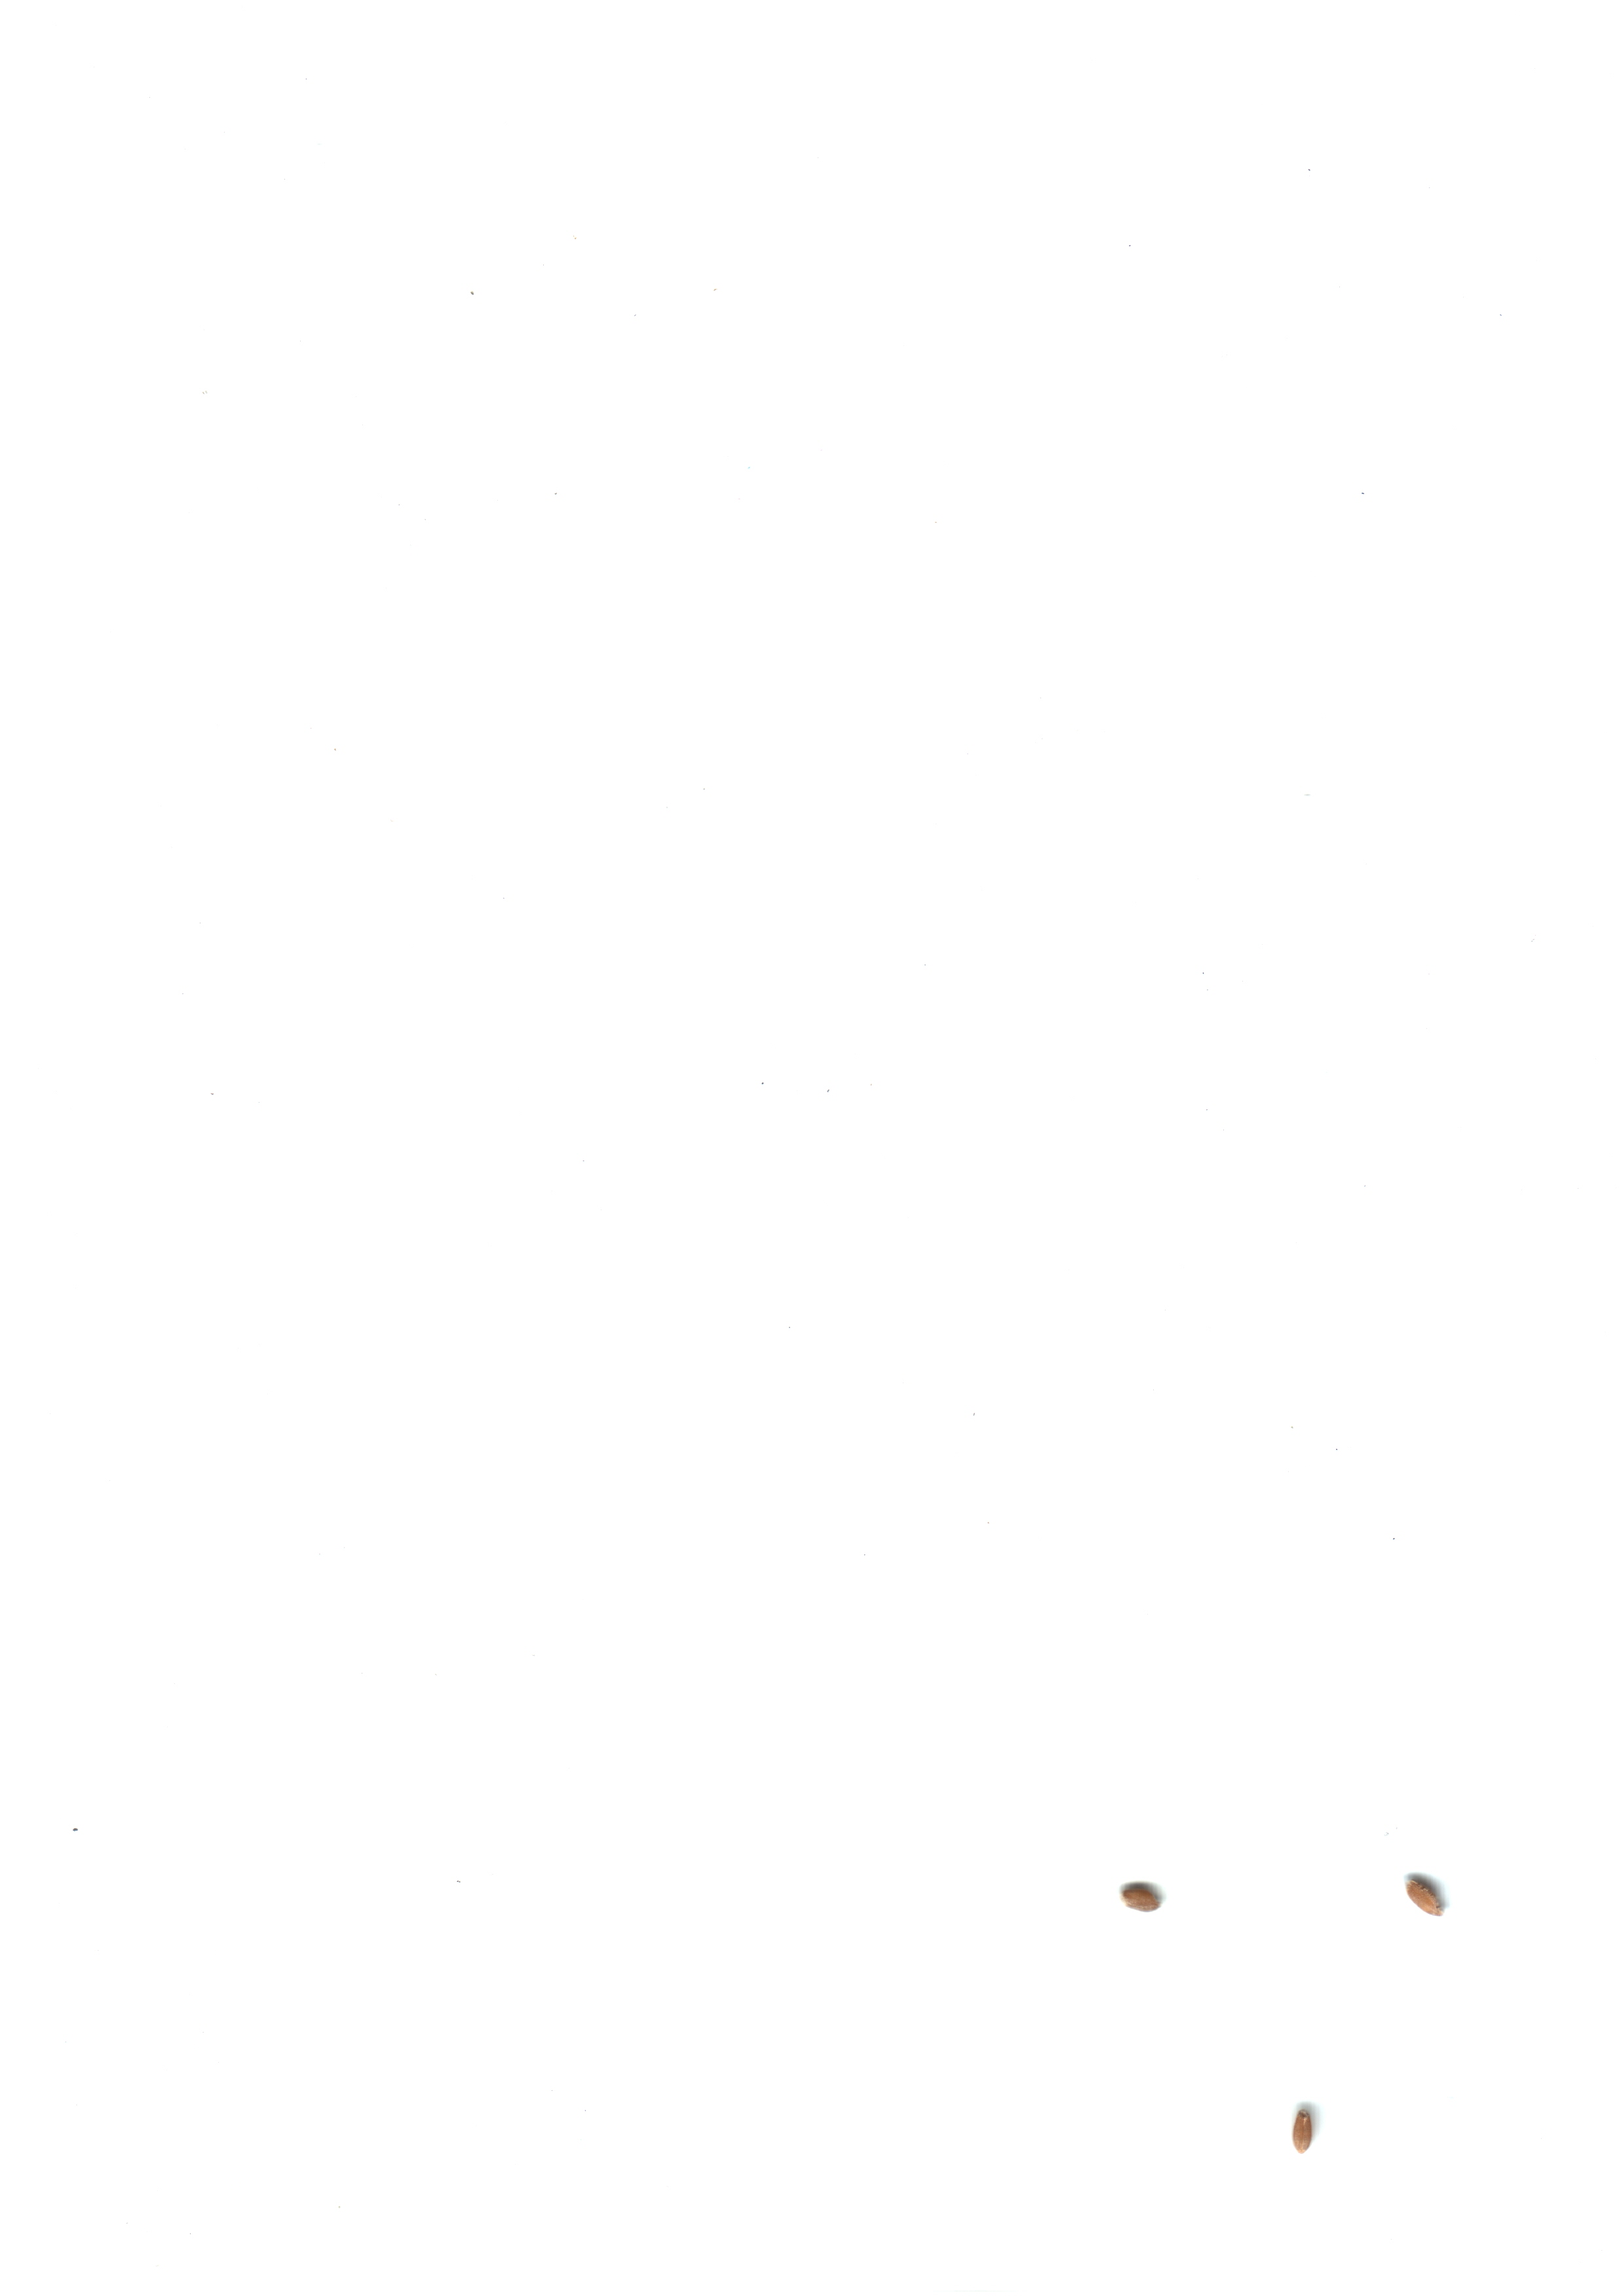grains_2_5mm: (1382, 1858, 1465, 1945), (1099, 1847, 1179, 1937), (1265, 2080, 1346, 2168)
